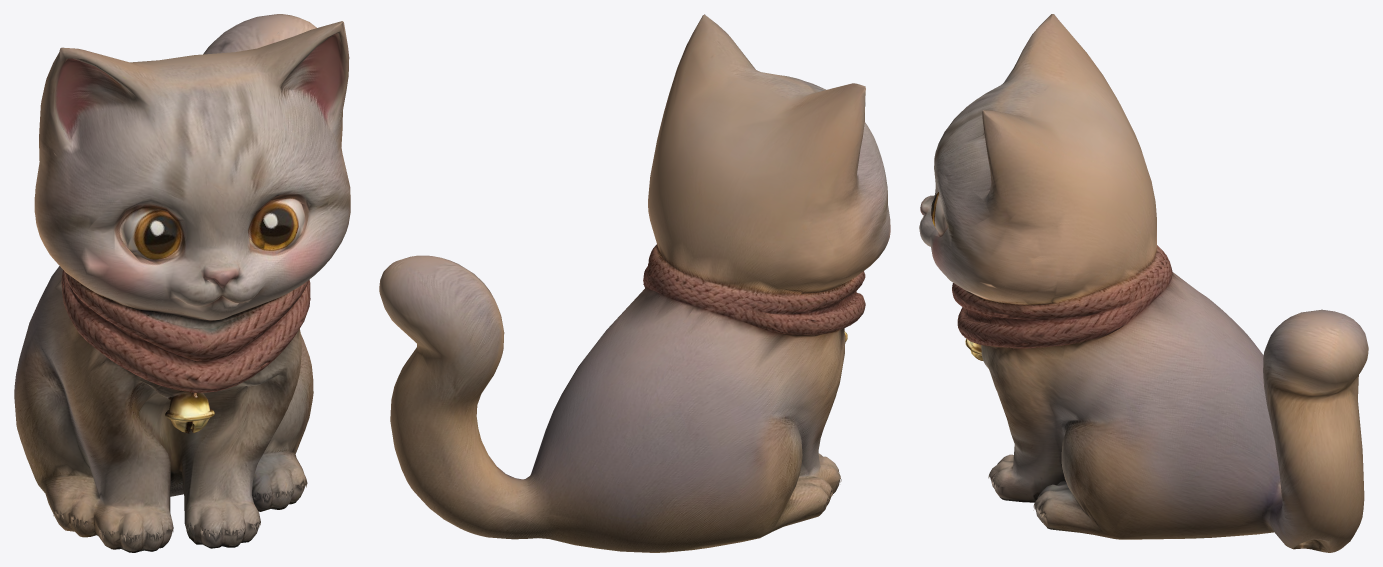
The picture shows the model from 3 angles, left to right: view 1: azimuth 30°, elevation 25°; view 2: azimuth 150°, elevation 25°; view 3: azimuth 270°, elevation 25°; orthographic projection. The views are drawn at different scales.
Visible parts, largest first — view 1: node_0; view 2: node_0; view 3: node_0.
Boxes of the visible parts, box(x1,y1,x2,y2) form: node_0: box(14, 14, 350, 552); node_0: box(379, 14, 890, 552); node_0: box(919, 14, 1368, 552).
Bounding box in the file's own units: 0.7823 × 0.8758 × 0.8456.
Materials: 1 (1 with a texture image).
